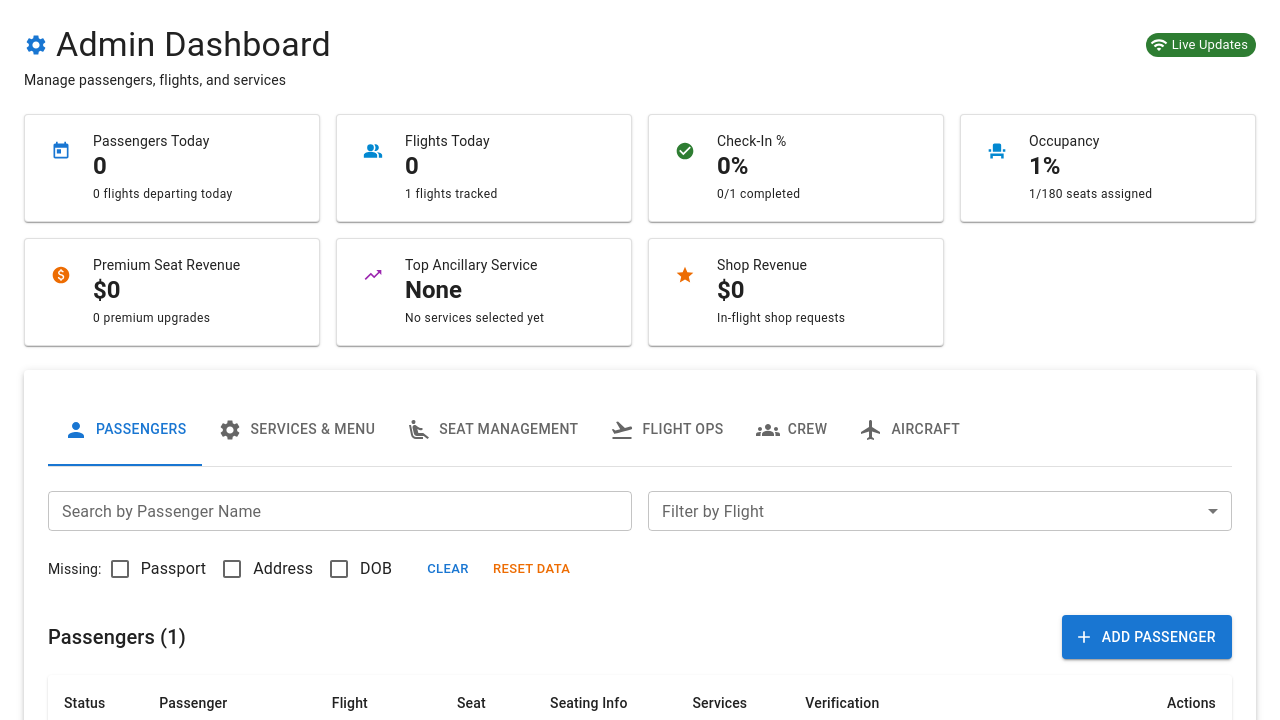
Scenario: AdminDashboard › Meal Dialog Operations › should protect the default Regular meal option from edit and delete actions
Click the tab "Services & Menu" at (297, 430), box [202, 394, 391, 466]
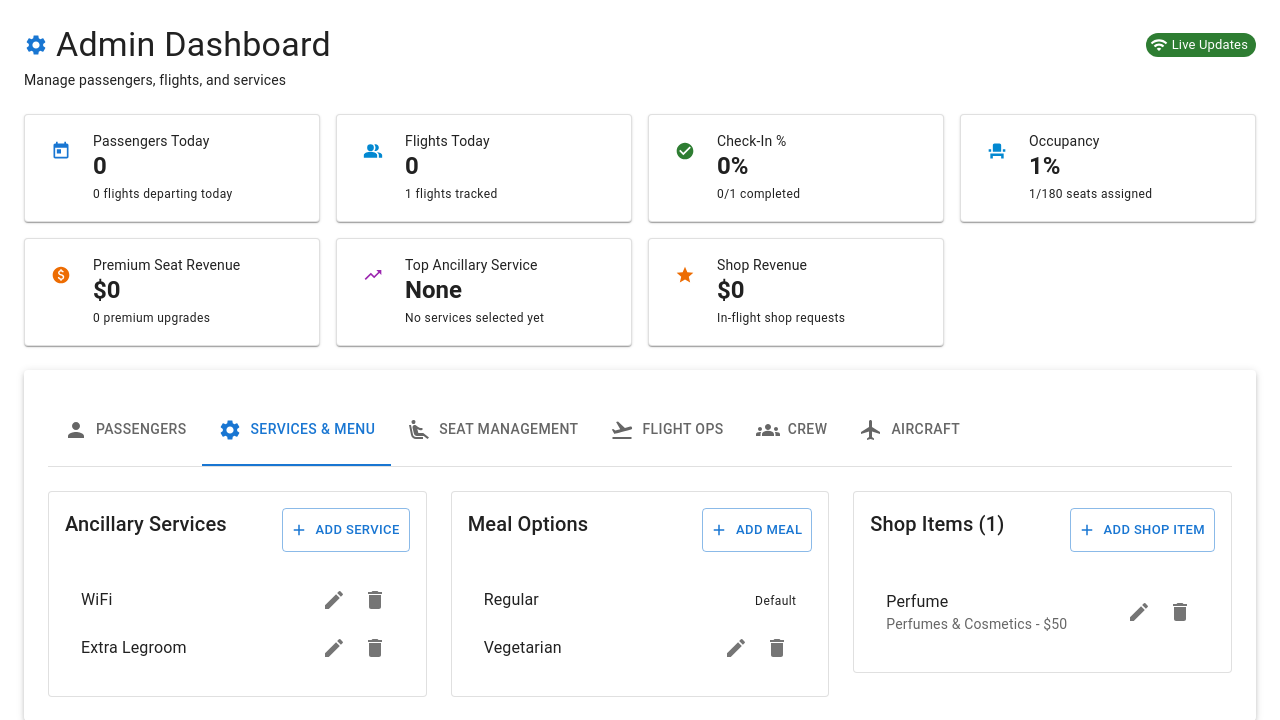
Result: the text "Default" is shown at [755, 594, 796, 608]
Result: the button named "Edit Vegetarian" is shown at [714, 626, 758, 670]
Result: the button named "Delete Vegetarian" is shown at [755, 626, 799, 670]
